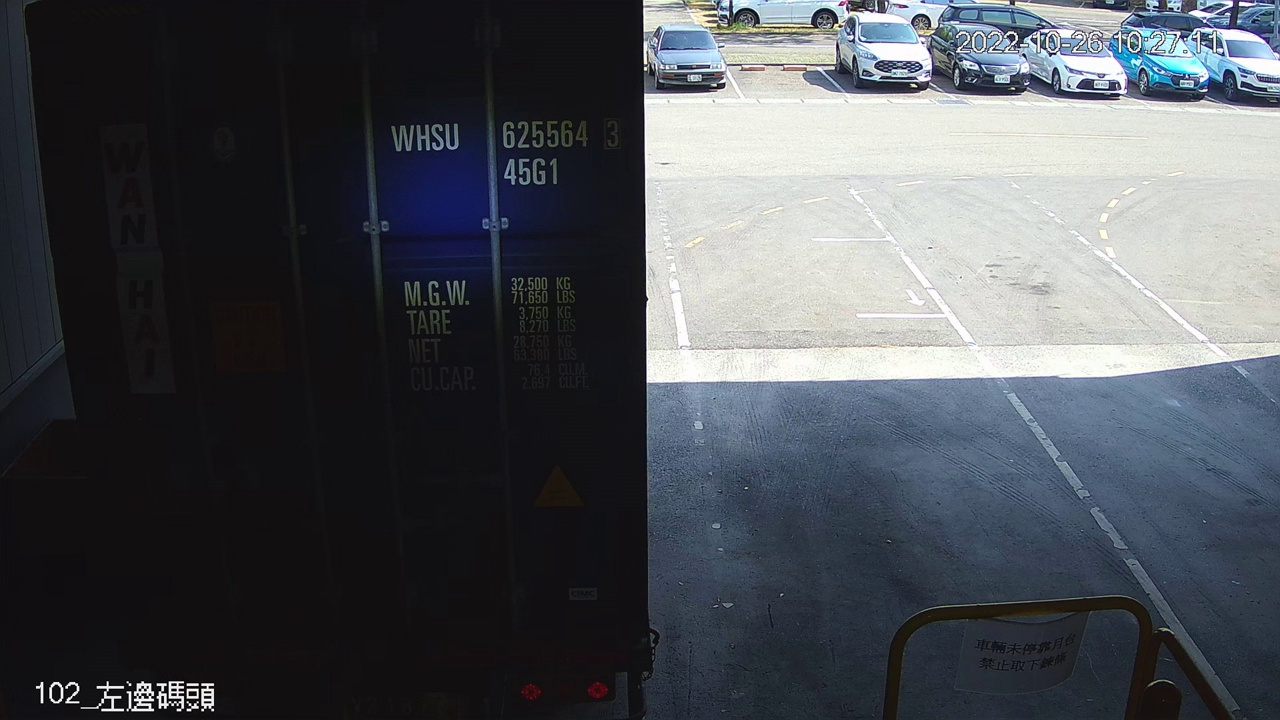container: (381, 108, 627, 196)
